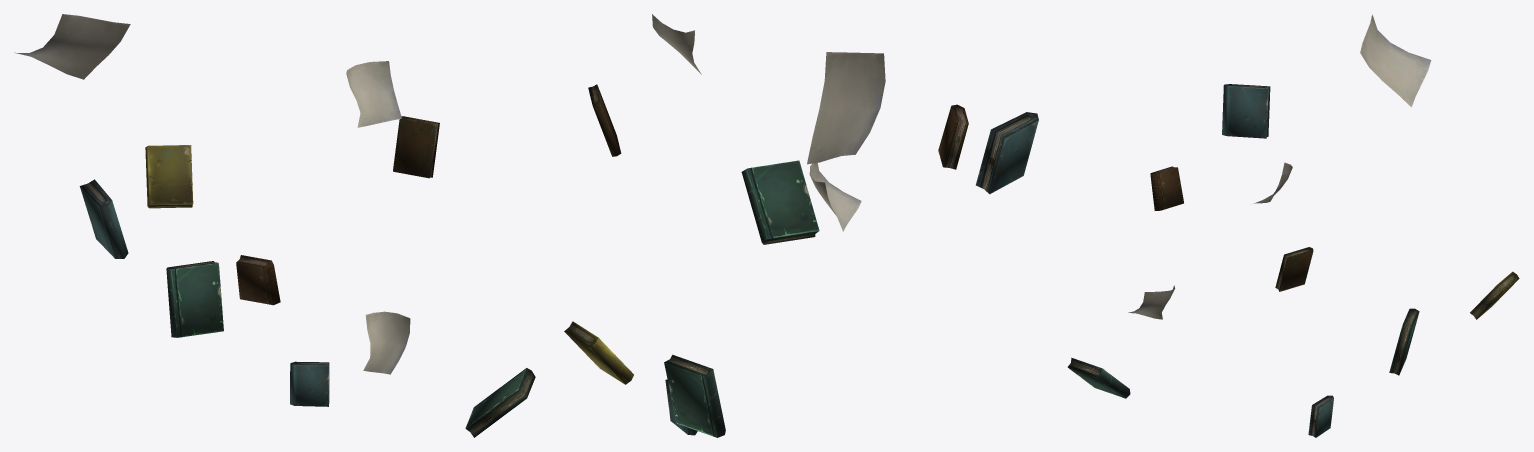
3 renders of one model, left to right at view 1: azimuth 30°, elevation 25°; view 2: azimuth 150°, elevation 25°; view 3: azimuth 270°, elevation 25°, orthographic. The views are drawn at different scales.
Size of the model in its own units: 5.32 by 5.65 by 6.93.
Materials: 4 (4 with a texture image).
